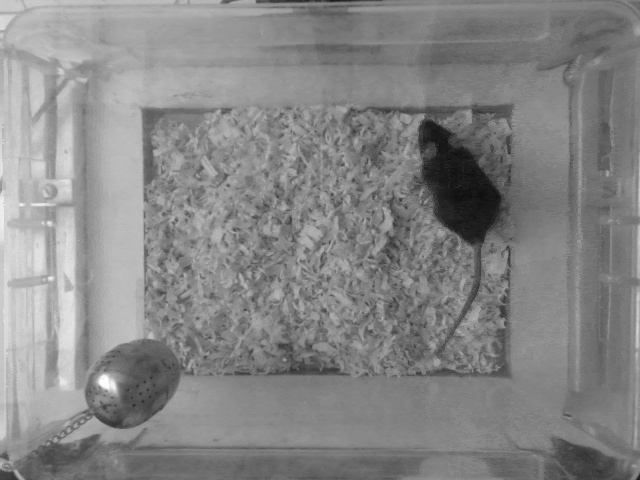mice: (412, 120, 504, 353)
